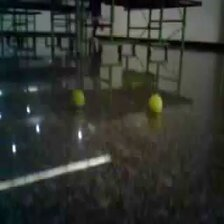tennis: (70, 90, 86, 108), (149, 94, 163, 114)
